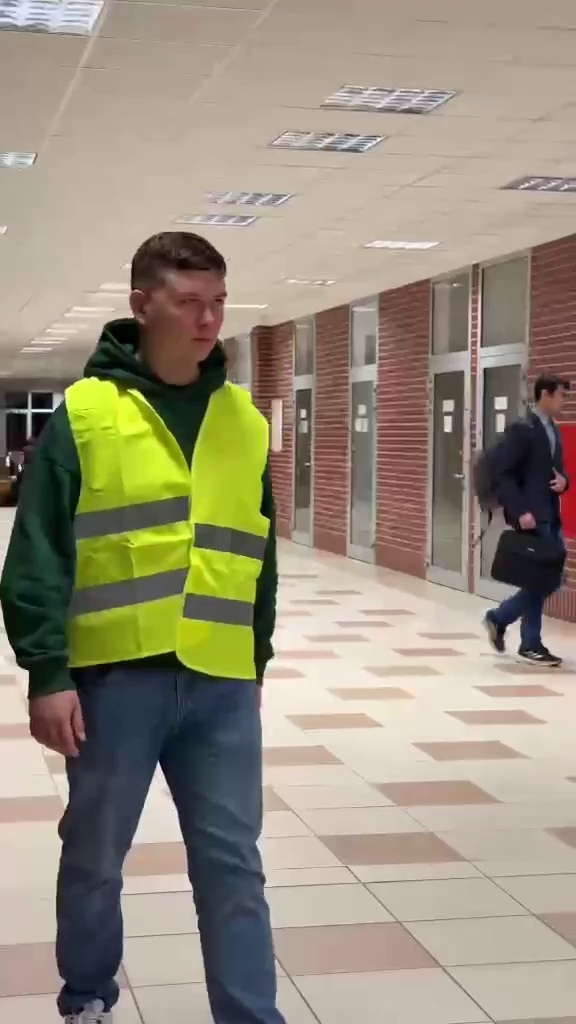no vest: (466, 360, 573, 667)
vest: (5, 227, 281, 989)
